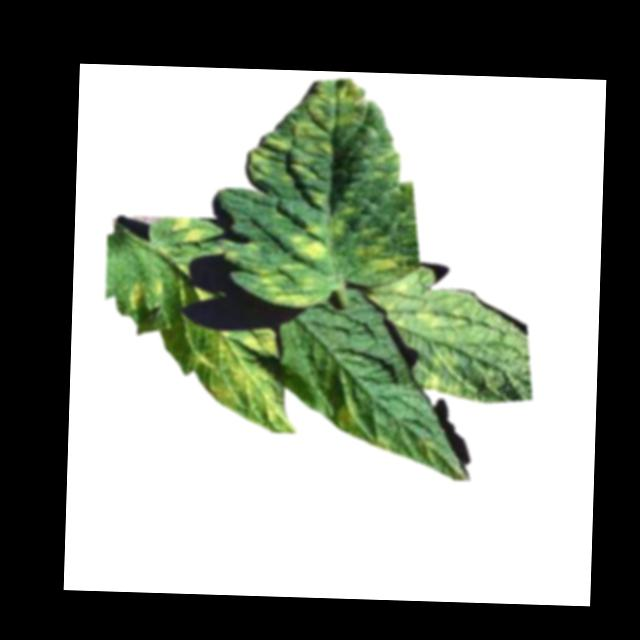Leaf_Mold: (245, 77, 365, 209), (190, 326, 297, 435), (366, 273, 480, 335), (254, 264, 326, 309), (423, 350, 475, 399), (352, 236, 407, 281), (289, 222, 330, 260), (333, 391, 365, 428), (172, 215, 207, 245), (129, 277, 148, 310), (373, 435, 398, 452)
